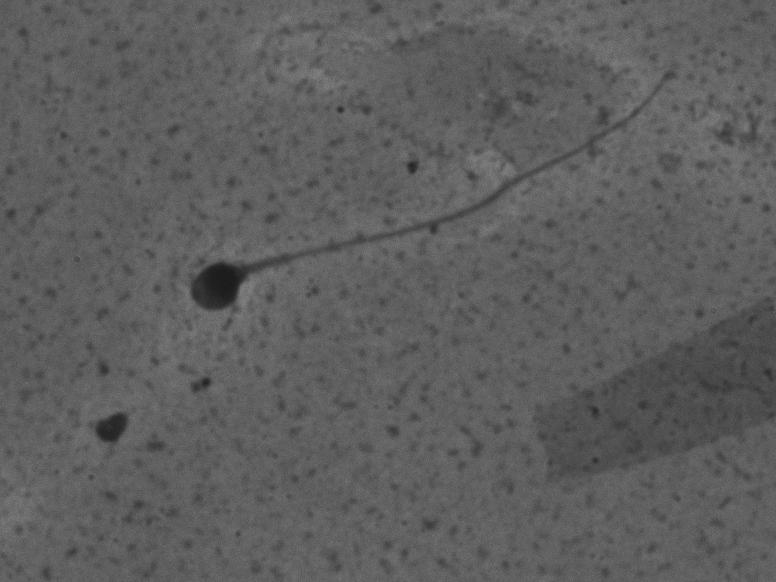Abnormal: (161, 56, 717, 350)
